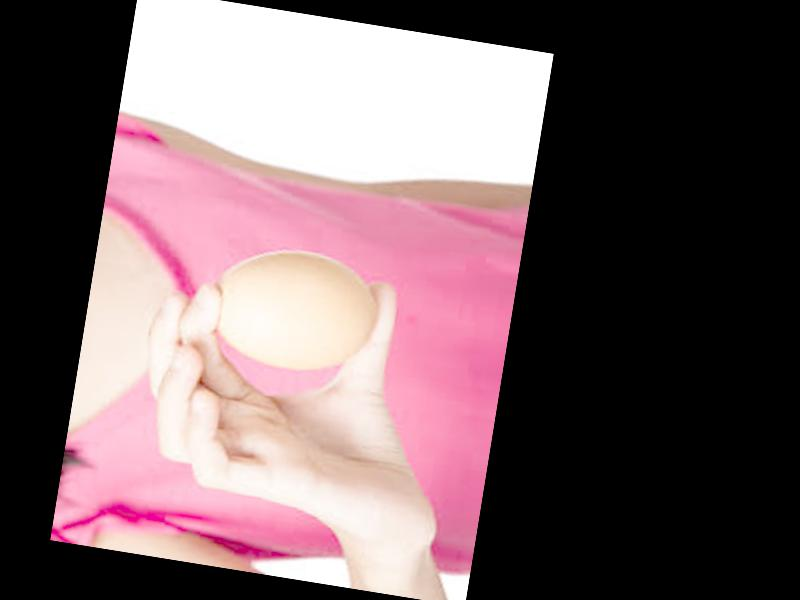Eggs: (201, 239, 382, 380)
